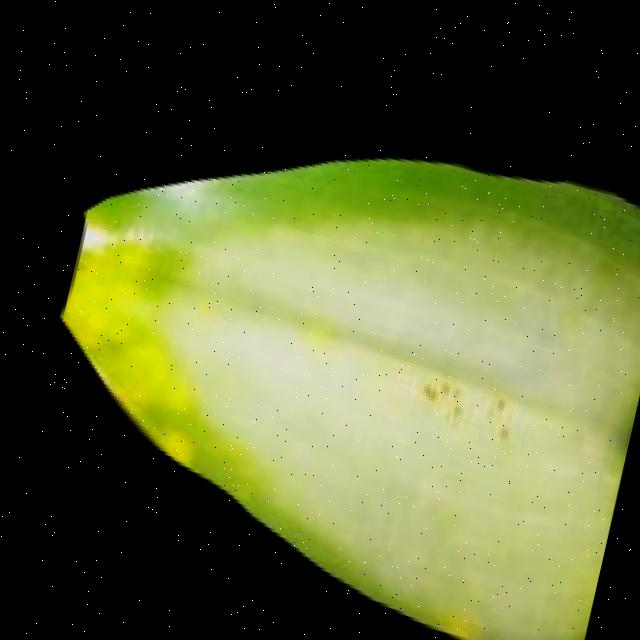mite: (569, 327, 640, 640), (415, 371, 441, 398)
spots: (6, 50, 640, 640)
